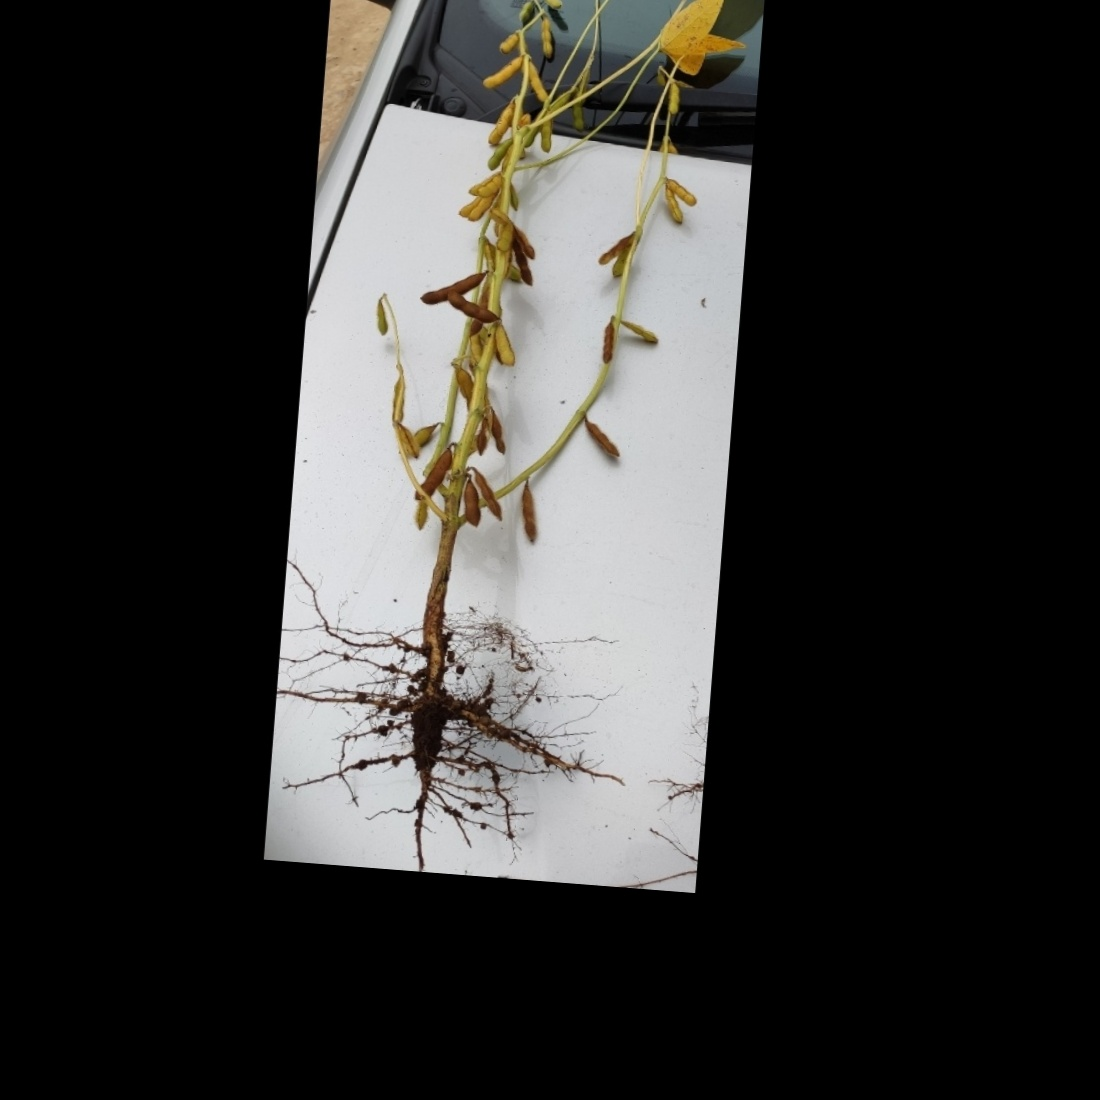pod: (419, 260, 493, 312), (473, 45, 535, 97), (516, 467, 551, 552), (413, 444, 461, 506), (442, 287, 506, 326), (577, 415, 623, 466), (486, 96, 523, 155), (453, 469, 489, 531), (606, 313, 663, 348), (657, 175, 703, 213), (535, 4, 559, 66), (661, 79, 690, 121), (489, 327, 519, 366), (367, 294, 391, 340), (594, 318, 615, 368), (474, 171, 510, 200), (515, 0, 535, 28)
soy: (316, 0, 713, 829)
